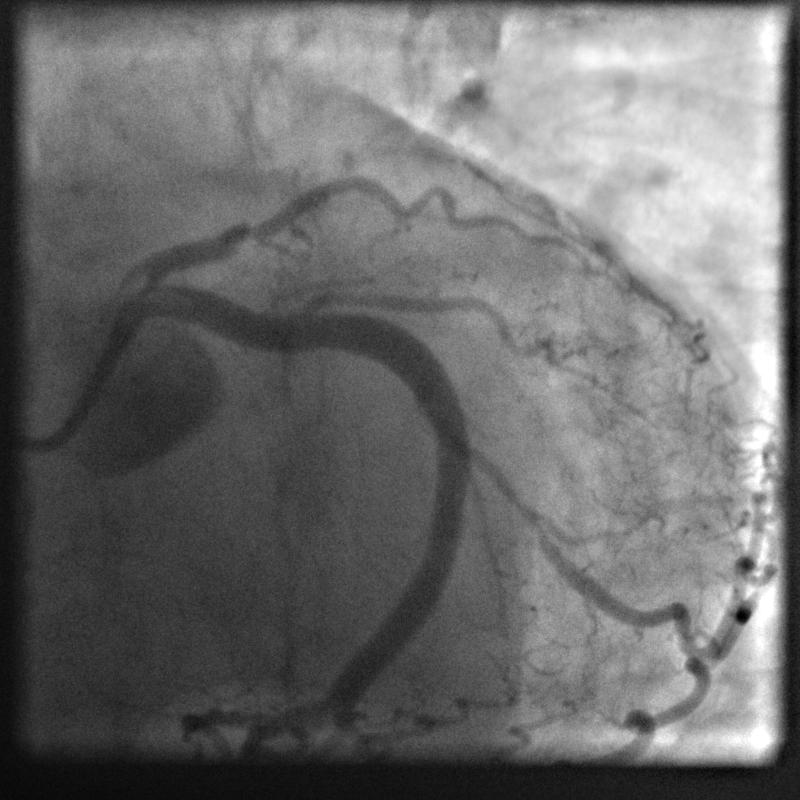Stenosis: (453, 417, 562, 551)
